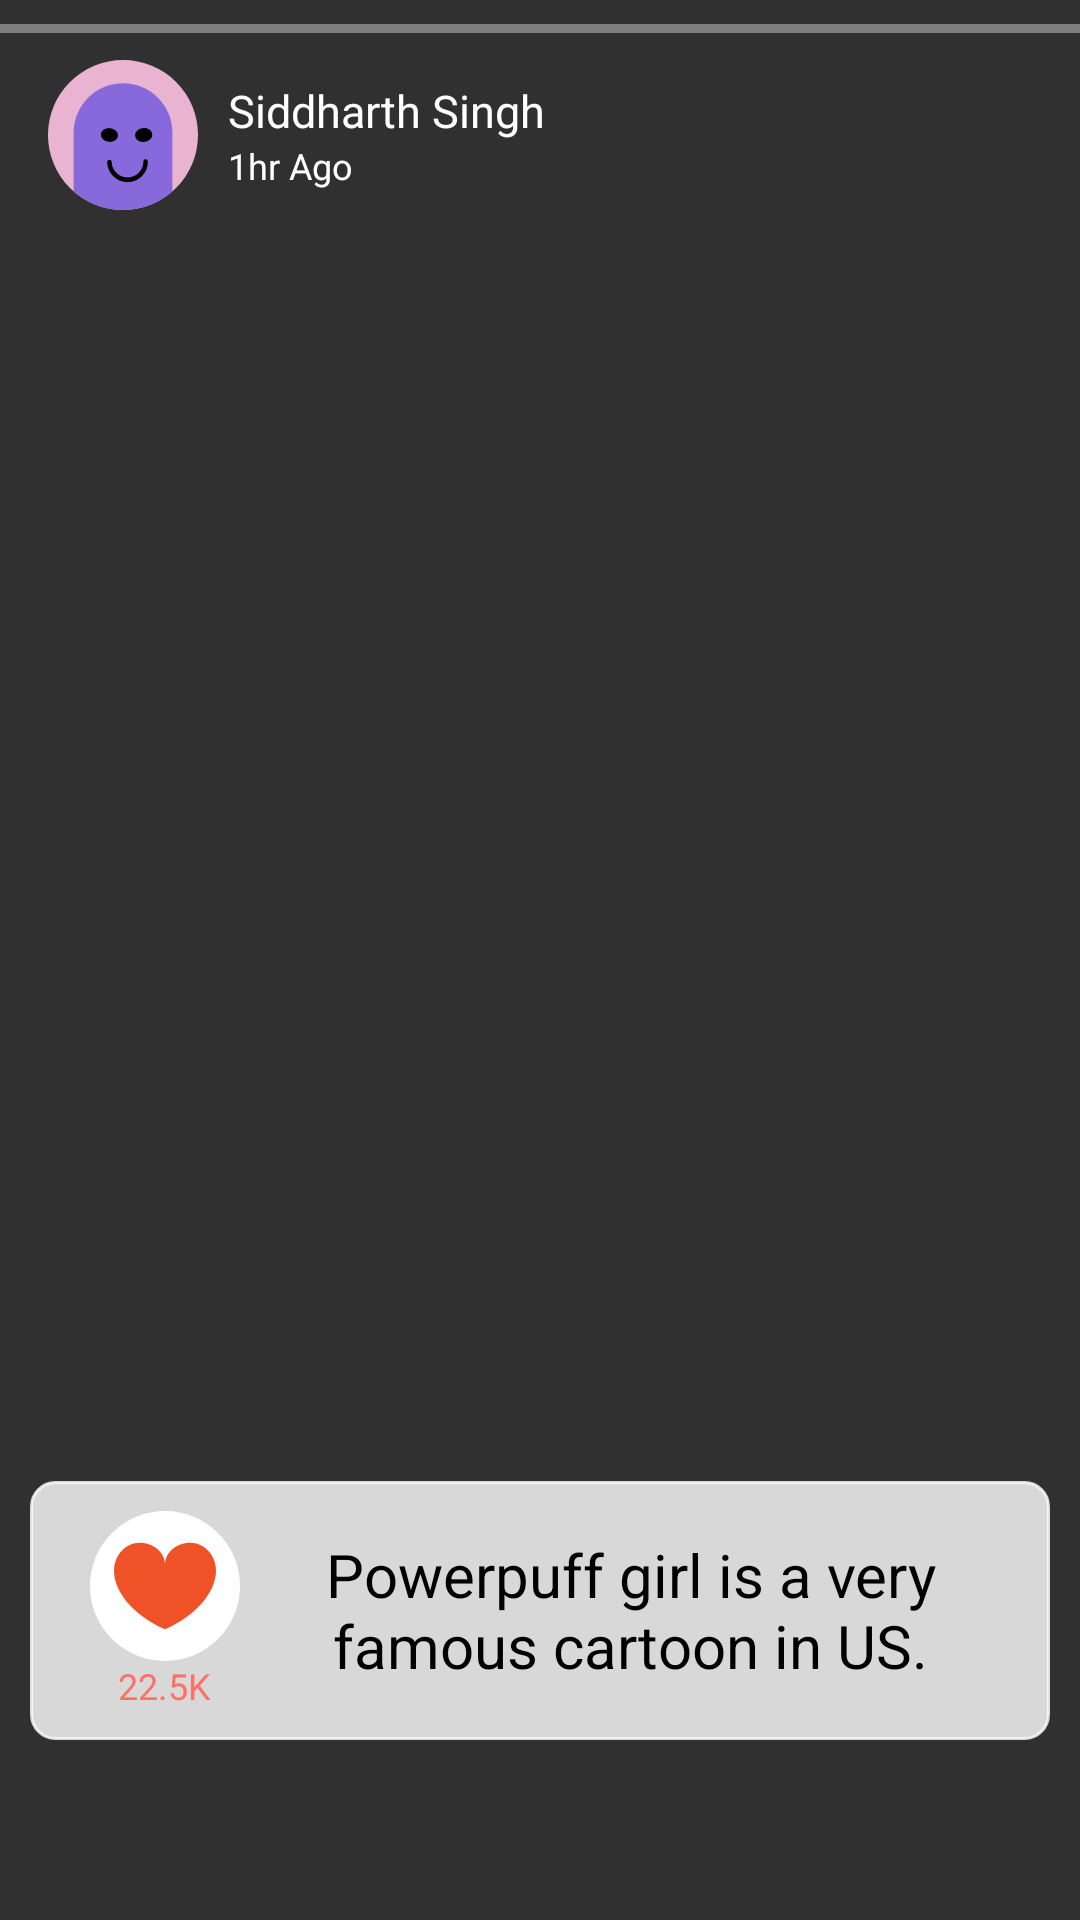

Icons on this 1080px×1920px Android screen, each with its box as (x1=x1, y1=y1, x2=x2, y2=y2):
heart icon: (x1=90, y1=1511, x2=240, y2=1661)
profile Image: (x1=48, y1=60, x2=198, y2=210)
